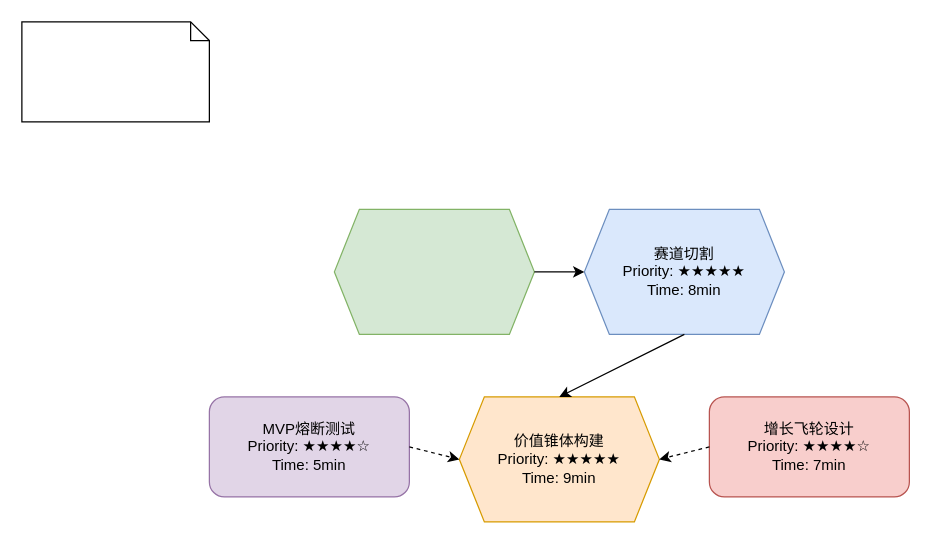
This 931x544 diagram has some shape labels left out. Here are the shapes that lost their labels. From the top down, the box of each, then its label:
(21, 21, 209, 122): 图例 ★★★★★ 核心步骤 ★★★★☆ 重要支持 ★★★☆☆ 可延后执行
(333, 208, 534, 334): 北极星指标定义 Priority: ★★★★★ Time: 6min
